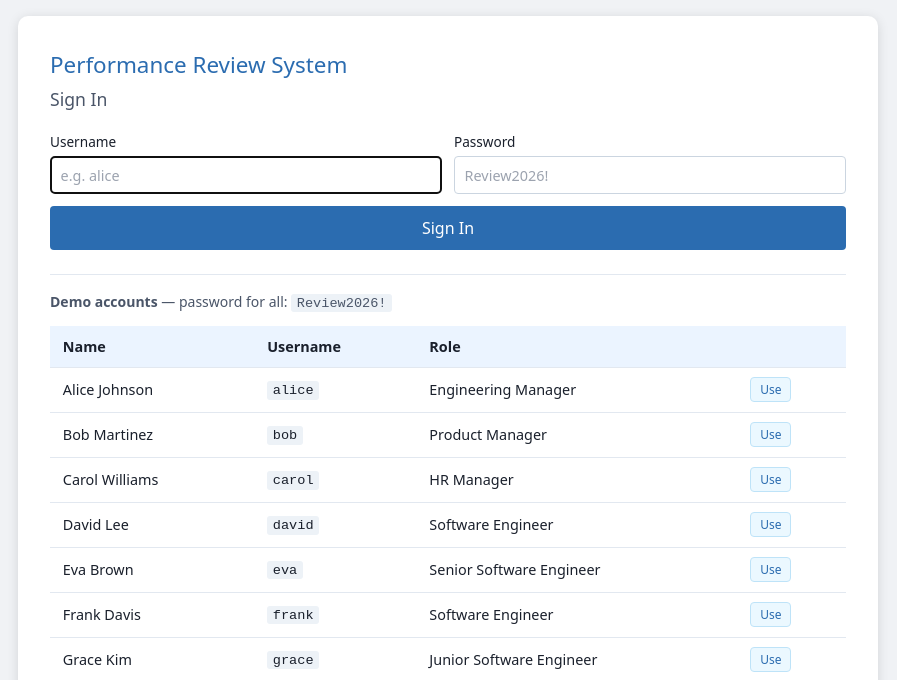
Login › shows network error message when fetch throws
The width and height of the screenshot is (897, 680).
Type "alice" into the field with placeholder "e.g. alice" at x=246, y=175, box [50,156,442,194]
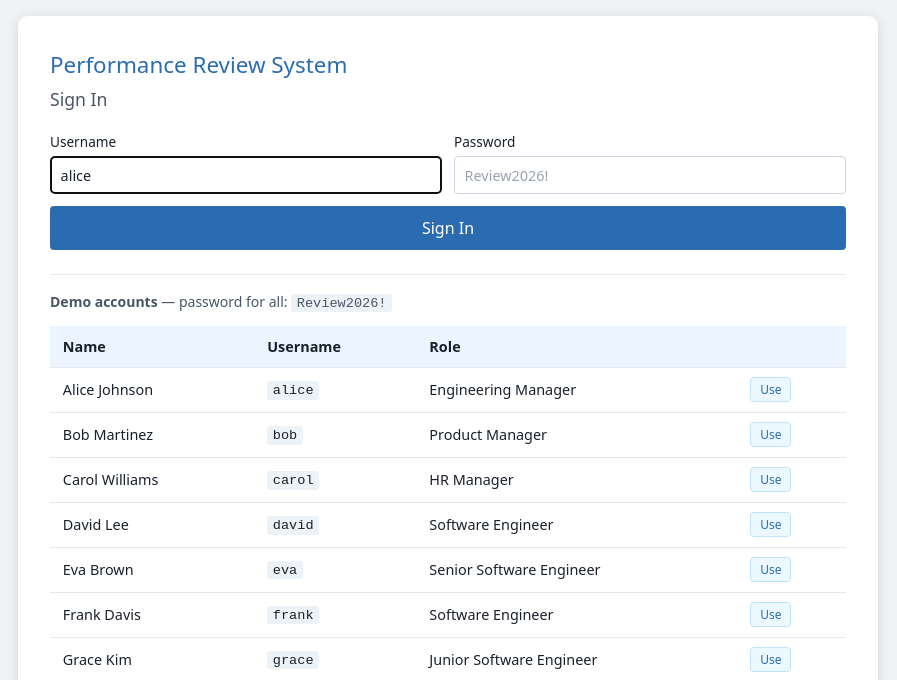
Type "pass" into the password field with placeholder "Review2026!" at x=650, y=175, box [454,156,846,194]
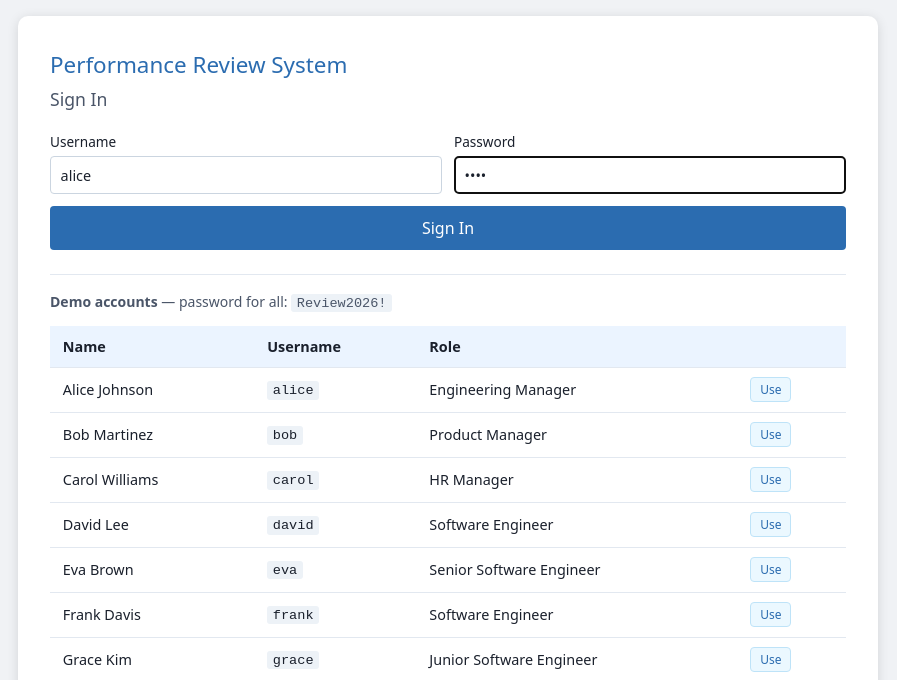
Click the button "Sign In" at x=448, y=228, box [50,206,846,250]
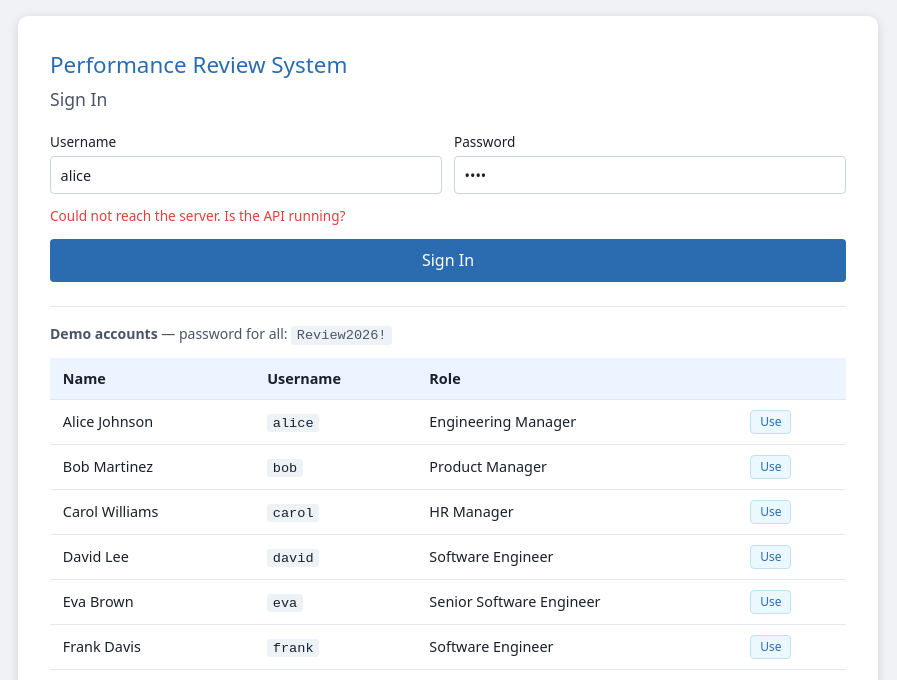
Expected: the text "Could not reach the server. Is the API running?" is shown, [50,206,346,225]
